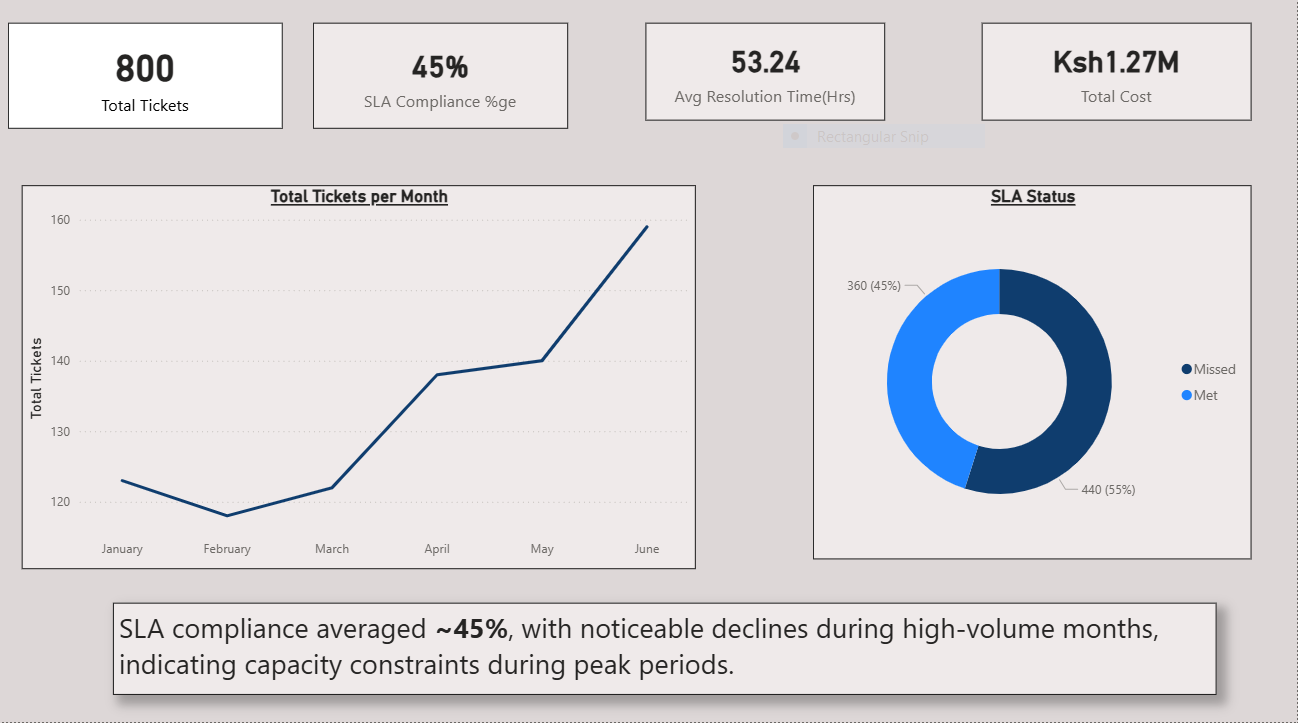

What the dashboard file says about the page in this screenshot:
{"tool":"powerbi","page":{"name":"Overview","canvas":[1280,720],"ordinal":0},"visuals":[{"type":"card","fields":{"Values":["operations_performance_data.Total Tickets"]},"box":[14.7,33.1,269.9,104.3],"z":0},{"type":"card","fields":{"Values":["operations_performance_data.SLA Compliance %ge"]},"box":[314.1,33.1,250.3,104.3],"z":1000},{"type":"card","fields":{"Values":["operations_performance_data.Avg_Resolution_Time"]},"box":[640.5,33.1,235.6,95.7],"z":2000},{"type":"card","fields":{"Values":["operations_performance_data.Total Cost"]},"box":[970.6,33.1,265,95.7],"z":3000},{"type":"lineChart","title":"Total Tickets per Month","fields":{"Y":["operations_performance_data.Total Tickets"],"Category":["operations_performance_data.Created_Date.Variation.Date Hierarchy.Month"]},"box":[28.2,192.6,661.4,376.7],"z":4000},{"type":"donutChart","title":"SLA Status","fields":{"Category":["operations_performance_data.SLA_Status"],"Y":["operations_performance_data.Total Tickets"]},"box":[804.9,192.6,430.7,366.9],"z":5000},{"type":"textbox","box":[118,602.7,1083.2,90.6],"z":6000}]}

Visuals, with their boxes in screenshot pixels (x1, y1, x2, y2), scaled from the page's 1280x720 canvas onto the 1298x723 screenshot:
card - operations_performance_data.Total Tickets: bbox=(15, 33, 289, 138)
card - operations_performance_data.SLA Compliance %ge: bbox=(319, 33, 572, 138)
card - operations_performance_data.Avg_Resolution_Time: bbox=(650, 33, 888, 129)
card - operations_performance_data.Total Cost: bbox=(984, 33, 1253, 129)
"Total Tickets per Month" lineChart: bbox=(29, 193, 699, 572)
"SLA Status" donutChart: bbox=(816, 193, 1253, 562)
textbox: bbox=(120, 605, 1218, 696)
